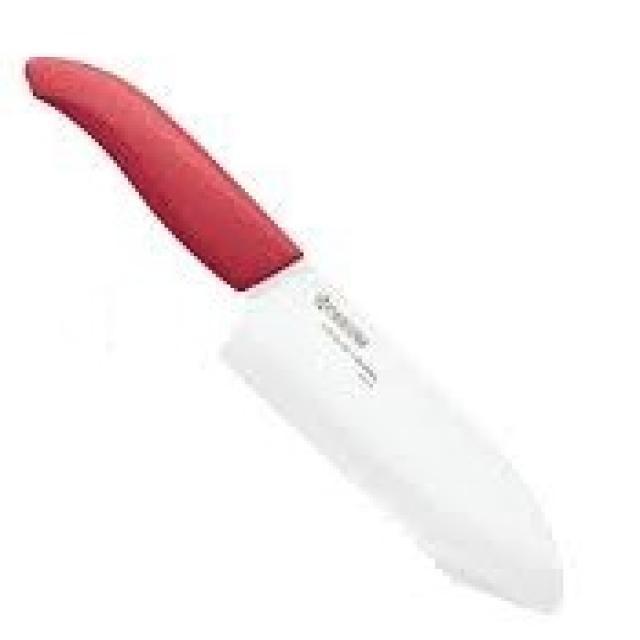knife: (19, 51, 575, 620)
